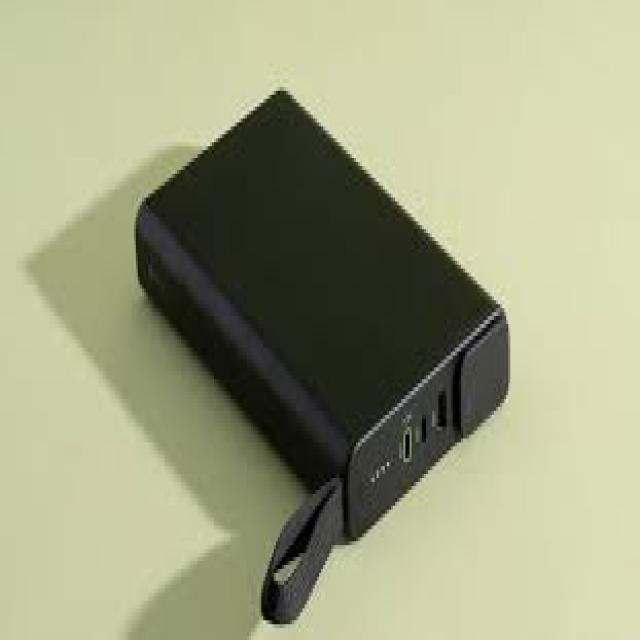portable-charger: (135, 88, 524, 628)
